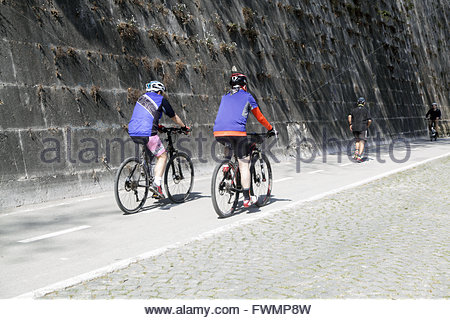bikerider: (106, 74, 199, 212), (205, 65, 277, 224), (419, 96, 445, 148)
